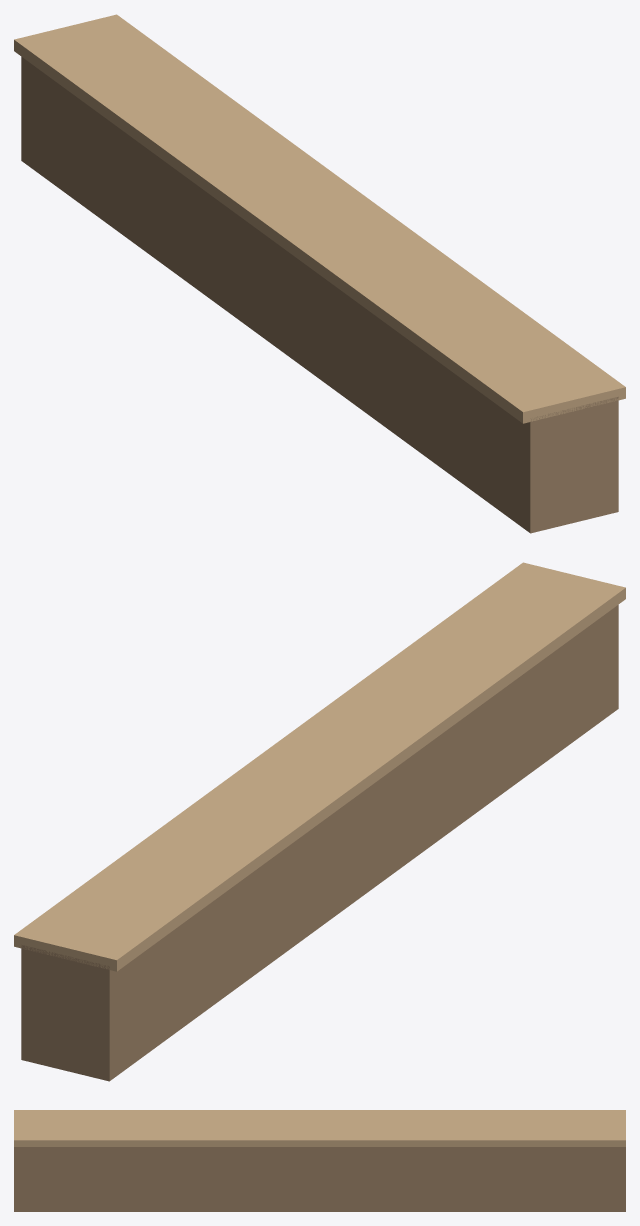
File: bridge_kerb.glb
3 renders of one model, top to bottom at view 1: azimuth 30°, elevation 25°; view 2: azimuth 150°, elevation 25°; view 3: azimuth 270°, elevation 25°, orthographic. The views are drawn at different scales.
Visible parts, largest first — view 1: bridge_kerb; view 2: bridge_kerb; view 3: bridge_kerb.
Part boxes in pixels (x1,y1,x2,y2): bridge_kerb: (14, 14, 625, 533); bridge_kerb: (14, 562, 625, 1081); bridge_kerb: (14, 1110, 625, 1211).
Bounding box in the file's own units: 0.28 × 0.32 × 2.4.
